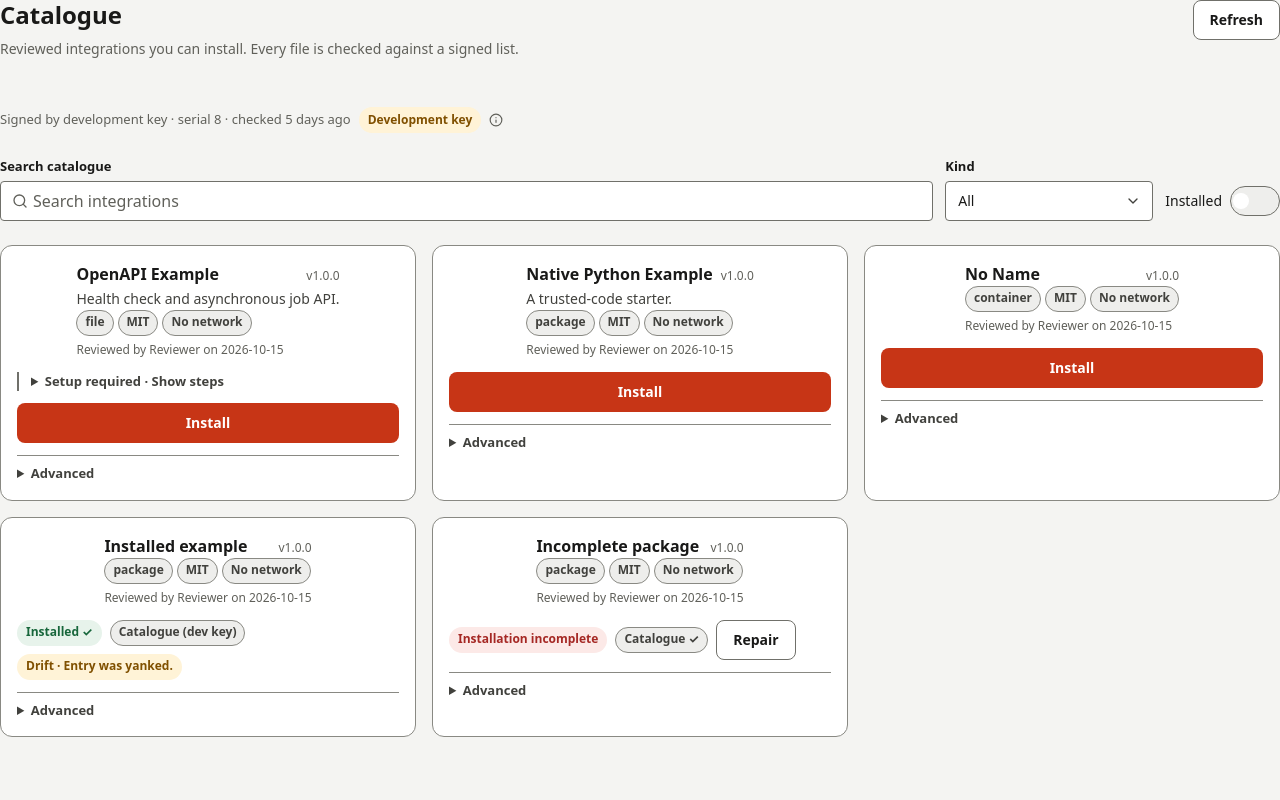
CataloguePanel › opens a file install dialog with permissions and endpoint reference when setup is required
Click the button "Install" below "Setup required · Show steps" at (208, 423), box [17,403,399,443]
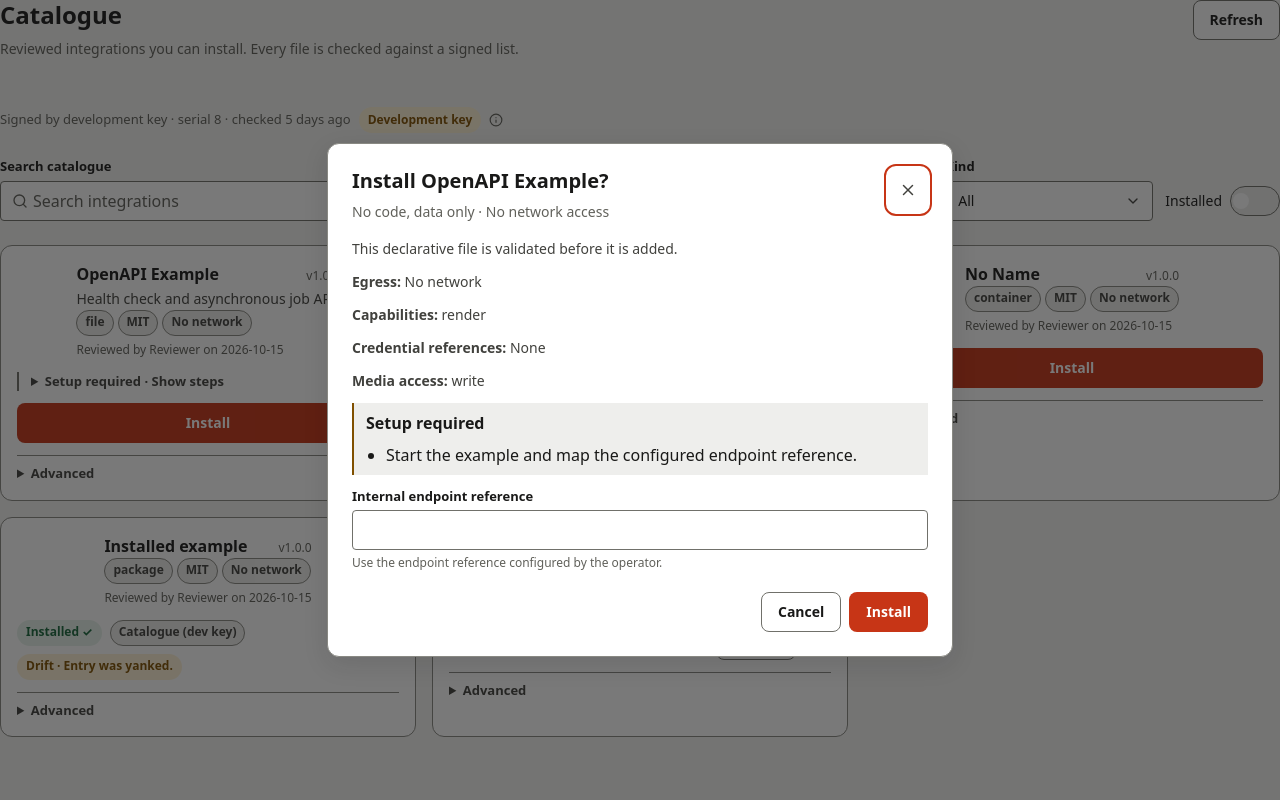
Check: the text "No code, data only" is shown, box [352,202,609,221]
Check: the text "Capabilities:" is shown, box [352,305,438,324]
Check: the field with id "catalogue-endpoint-ref" is shown, box [352,510,928,550]
